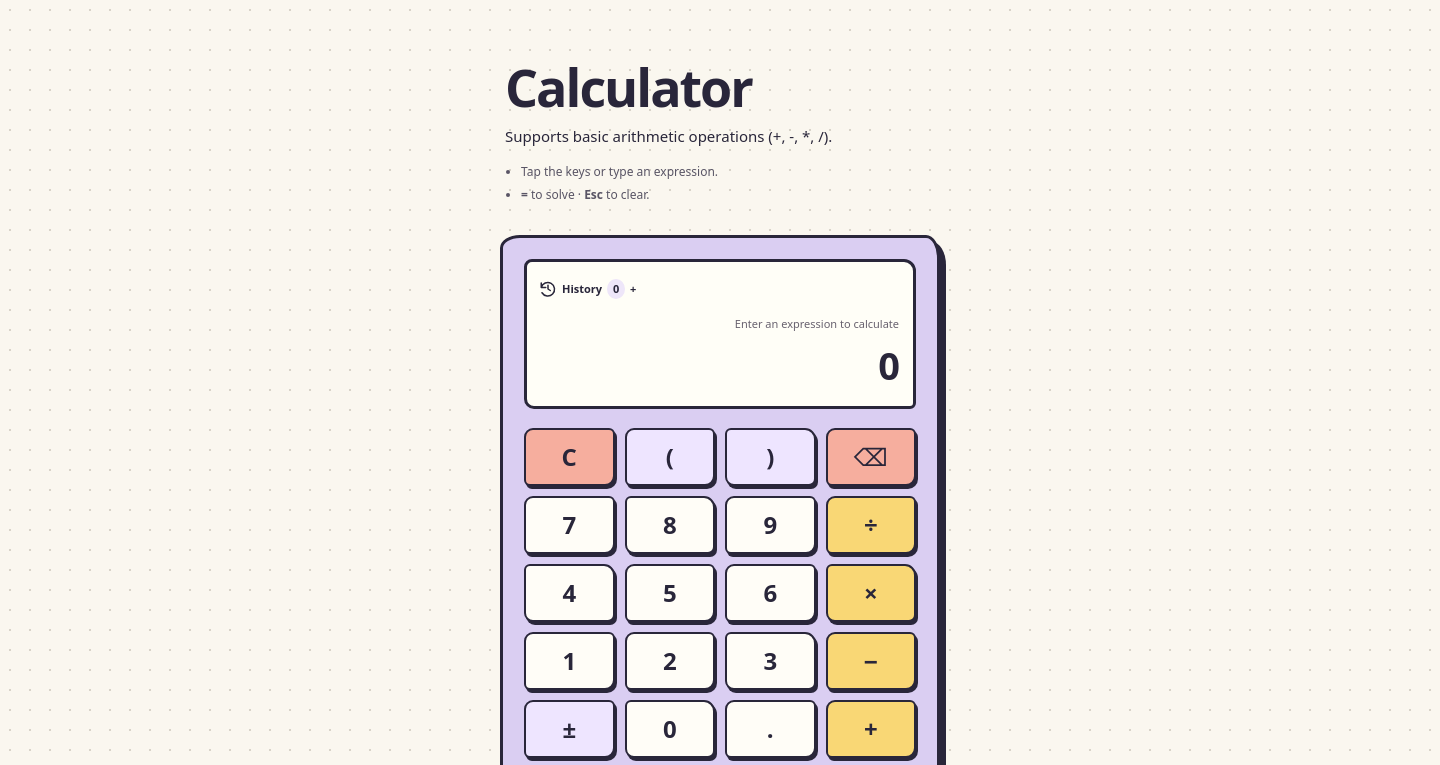
it: calculator acceptance criteria › handles network failure in the display
Type keys "1{Enter}"
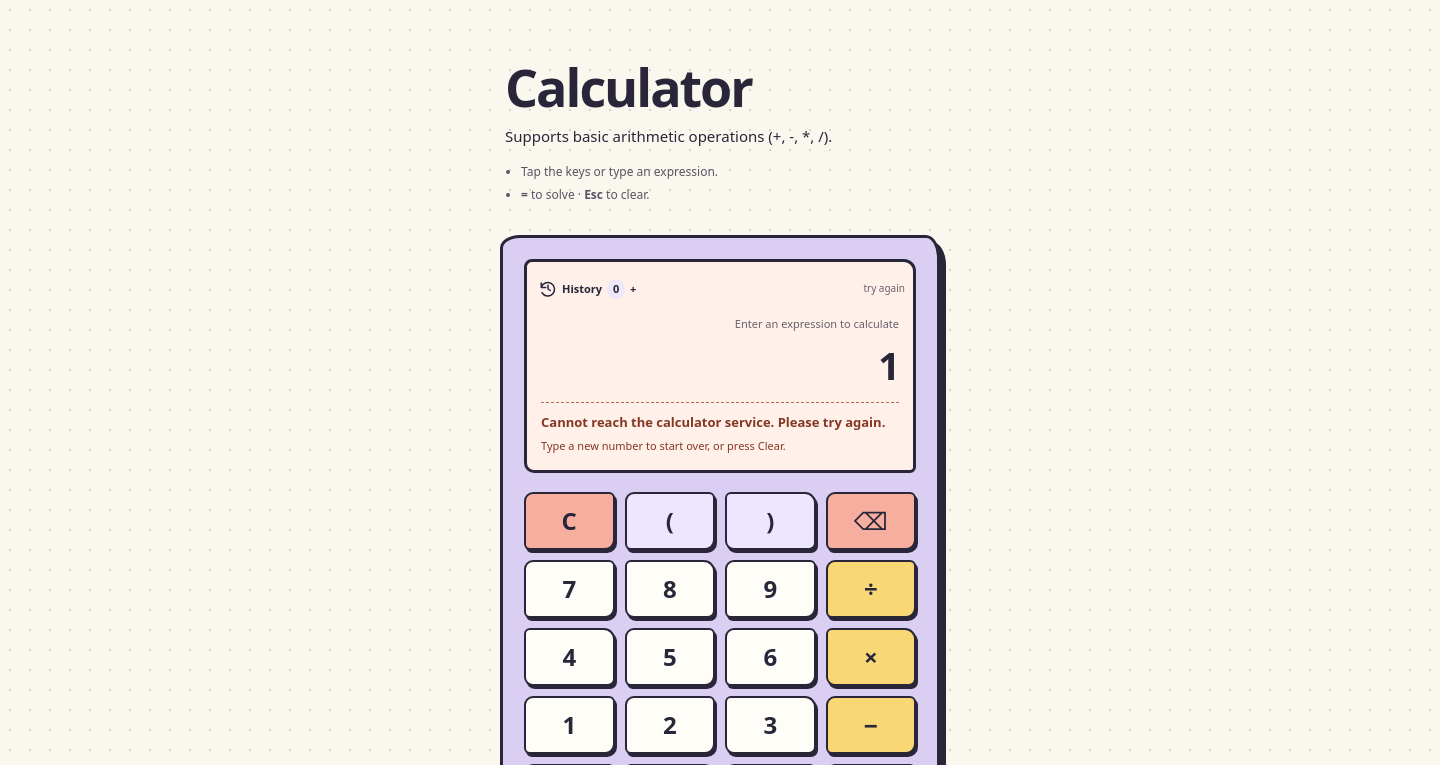
Now the 2nd message shows "Cannot reach the calculator service", box [541,413,885,431]
Click the button named "Clear calculator and history" at [569, 521], box [524,492,614,550]
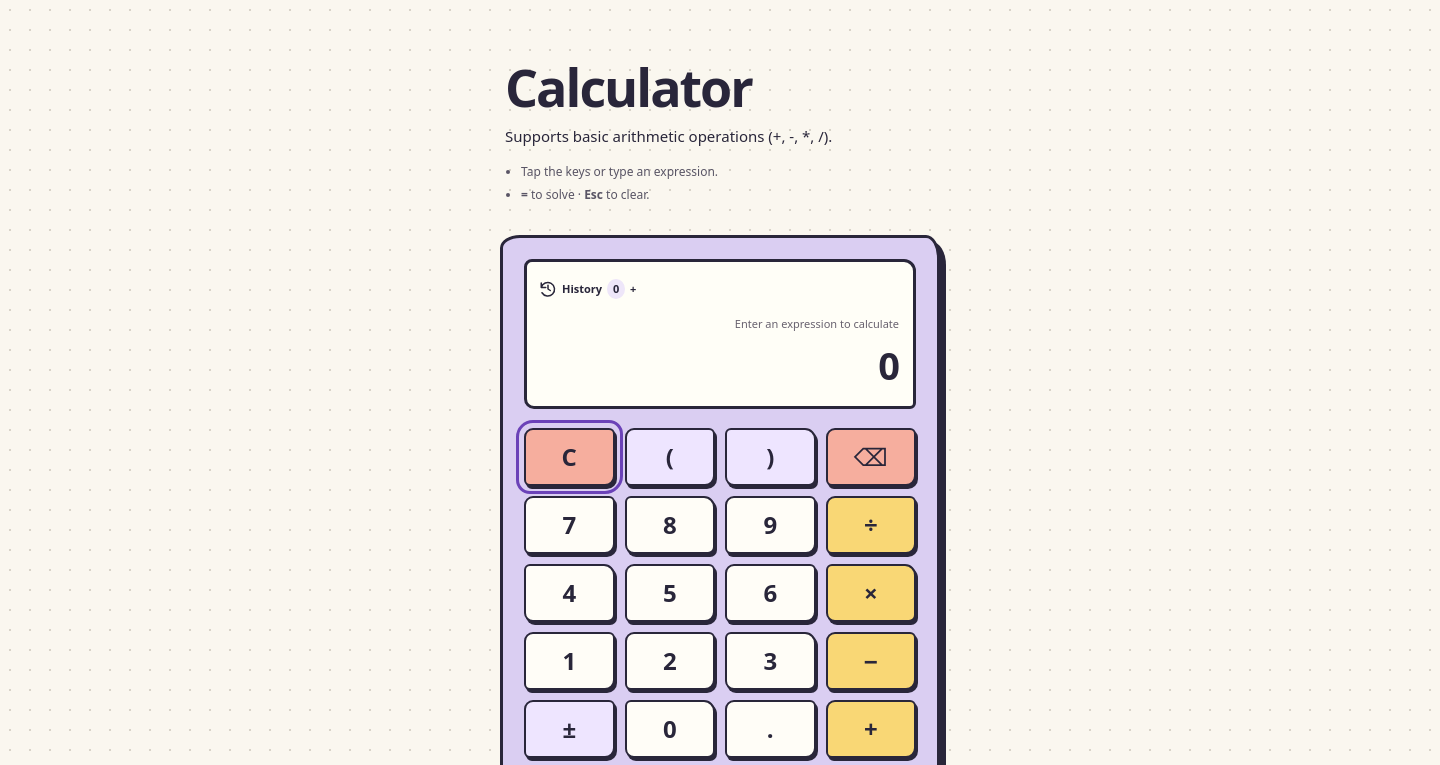
Now the message reads "0", box [878,339,899,391]
